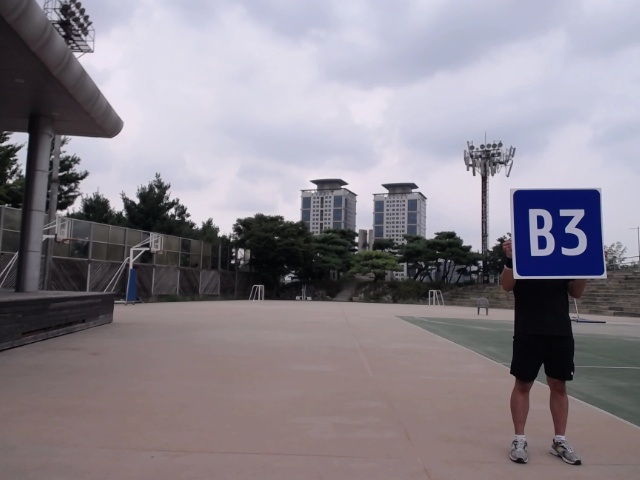delivery_b3: (510, 186, 609, 281)
